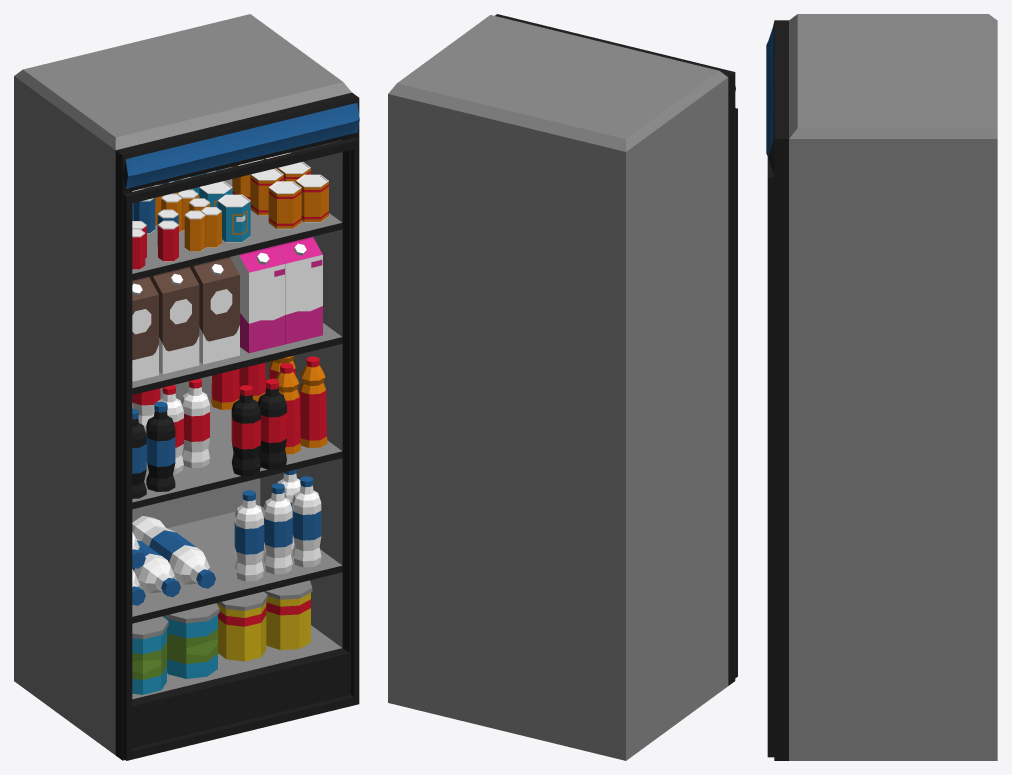
Rendered from SMless_fridge_02.fbx.
The picture shows the model from 3 angles, left to right: view 1: azimuth 30°, elevation 25°; view 2: azimuth 150°, elevation 25°; view 3: azimuth 270°, elevation 25°; orthographic projection. The views are drawn at different scales.
Parts seen in each view (by area): view 1: SMless_fridge_02; view 2: SMless_fridge_02; view 3: SMless_fridge_02.
Part boxes in pixels (box(x1,y1,x2,y2)): SMless_fridge_02: box(14, 14, 359, 760); SMless_fridge_02: box(388, 14, 737, 760); SMless_fridge_02: box(766, 14, 997, 760).
Size of the model in its own units: 100 by 248 by 82.29.
